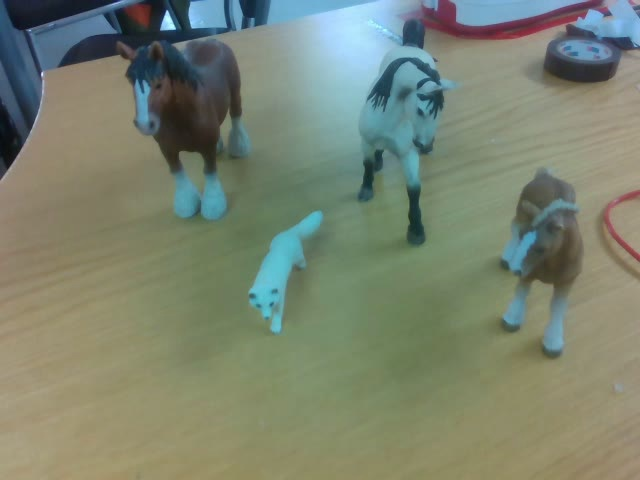toy: (117, 38, 252, 220), (357, 18, 458, 245), (497, 164, 585, 359), (248, 209, 323, 336)
